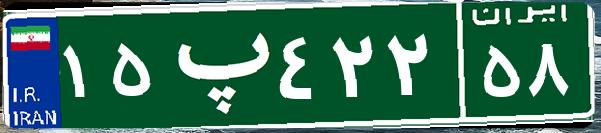1: (57, 26, 110, 107)
2: (385, 28, 445, 110), (330, 28, 385, 110)
4: (273, 28, 330, 110)
5: (475, 38, 525, 113), (110, 28, 158, 105)
8: (525, 38, 570, 115)
پ: (158, 15, 273, 115)
